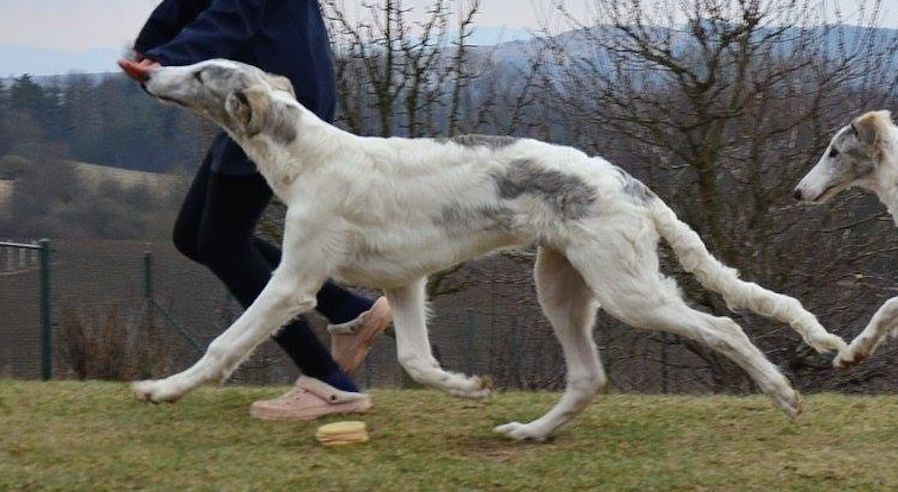borzoi: (135, 56, 850, 443), (791, 105, 898, 378)
